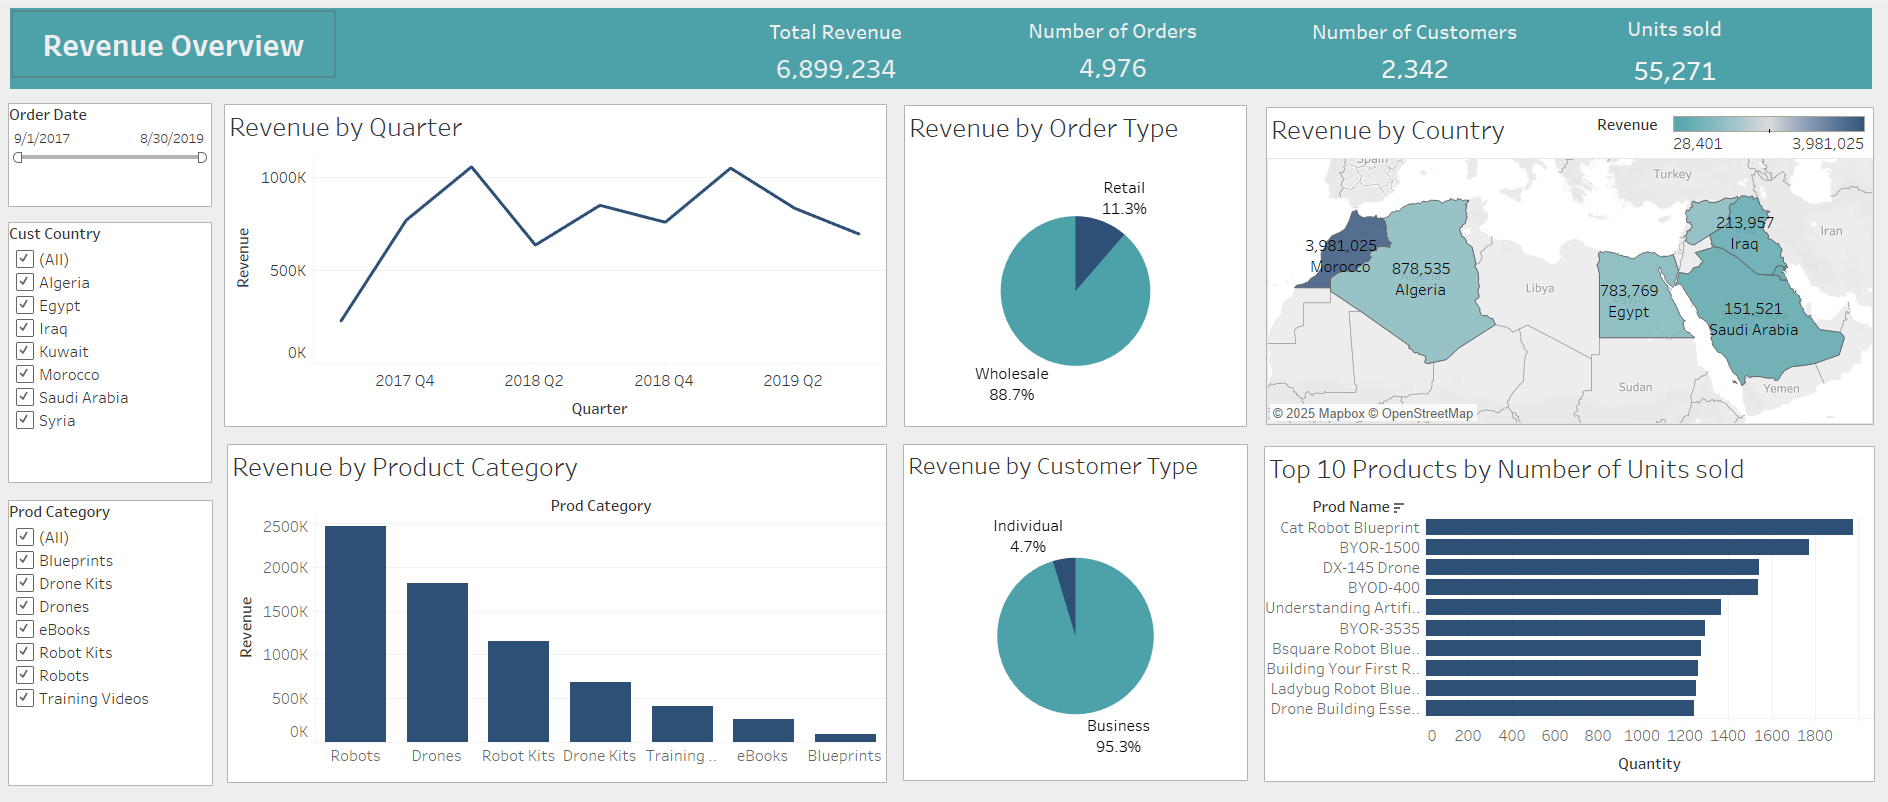

The page's visual inventory and layout, read from the dashboard file:
{"tool":"tableau","page":{"name":"Dashboard 1","canvas":[1000,1000],"units":"permille","ordinal":0},"visuals":[{"type":"worksheet","title":"Units sold","mark":"Automatic","box":[822,11.2,129.8,103.6]},{"type":"text","box":[6.6,13.7,170.2,79.9]},{"type":"worksheet","title":"Number of Orders","mark":"Automatic","box":[534.1,13.7,110.4,88.6]},{"type":"worksheet","title":"Total Revenue","mark":"Automatic","box":[398.3,15,88.7,82.4]},{"type":"worksheet","title":"Number of Customers","mark":"Automatic","box":[680.1,15,138.2,89.9]},{"type":"filter","title":"Revenue by Quarter","param":"[federated.0sqhqvr1qwu5jw19930ze0pq7bpg].[none:OrderDate:qk]","box":[4.2,127.3,108,129.8]},{"type":"worksheet","title":"Revenue by Quarter","mark":"Automatic","rows":["Total Cost"],"cols":["OrderDate"],"box":[118.6,128.6,351.2,403.2]},{"type":"worksheet","title":"Revenue by Order Type","mark":"Pie","box":[478.8,129.8,181.7,402]},{"type":"worksheet","title":"Revenue by Country","mark":"Automatic","box":[670.6,132.3,322,397]},{"type":"legend","title":"Revenue by Country","param":"[federated.0sqhqvr1qwu5jw19930ze0pq7bpg].[sum:Total Cost:qk]","box":[845.9,138.6,144.1,51.2]},{"type":"filter","title":"Revenue by Quarter","param":"[federated.0sqhqvr1qwu5jw19930ze0pq7bpg].[none:CustCountry:nk]","box":[4.2,275.9,108,325.8]},{"type":"worksheet","title":"Revenue by Product Category","mark":"Automatic","rows":["Total Cost"],"cols":["ProdCategory"],"box":[120.2,553.1,349.6,423.2]},{"type":"worksheet","title":"Revenue by Customer Type","mark":"Pie","box":[478.3,553.1,182.7,420.7]},{"type":"worksheet","title":"Top 10 Products by Number of Units sold","mark":"Automatic","rows":["ProdName"],"cols":["Quantity"],"box":[669.5,555.6,323.6,419.5]},{"type":"filter","title":"Revenue by Quarter","param":"[federated.0sqhqvr1qwu5jw19930ze0pq7bpg].[none:ProdCategory:nk]","box":[4.2,623,108.6,357.1]}]}

Visuals, with their boxes on the dashboard's canvas, which has no fixed pixel size, in thousandths of its width and height (x1, y1, x2, y2). These are canvas units, not pixel positions in the 1888x802 screenshot, which may show the page scaled, cropped or inside an application window:
"Units sold" worksheet: 822,11,952,115
text: 7,14,177,94
"Number of Orders" worksheet: 534,14,644,102
"Total Revenue" worksheet: 398,15,487,97
"Number of Customers" worksheet: 680,15,818,105
"Revenue by Quarter" filter: 4,127,112,257
"Revenue by Quarter" worksheet: 119,129,470,532
"Revenue by Order Type" worksheet (Pie marks): 479,130,660,532
"Revenue by Country" worksheet: 671,132,993,529
"Revenue by Country" legend: 846,139,990,190
"Revenue by Quarter" filter: 4,276,112,602
"Revenue by Product Category" worksheet: 120,553,470,976
"Revenue by Customer Type" worksheet (Pie marks): 478,553,661,974
"Top 10 Products by Number of Units sold" worksheet: 670,556,993,975
"Revenue by Quarter" filter: 4,623,113,980
